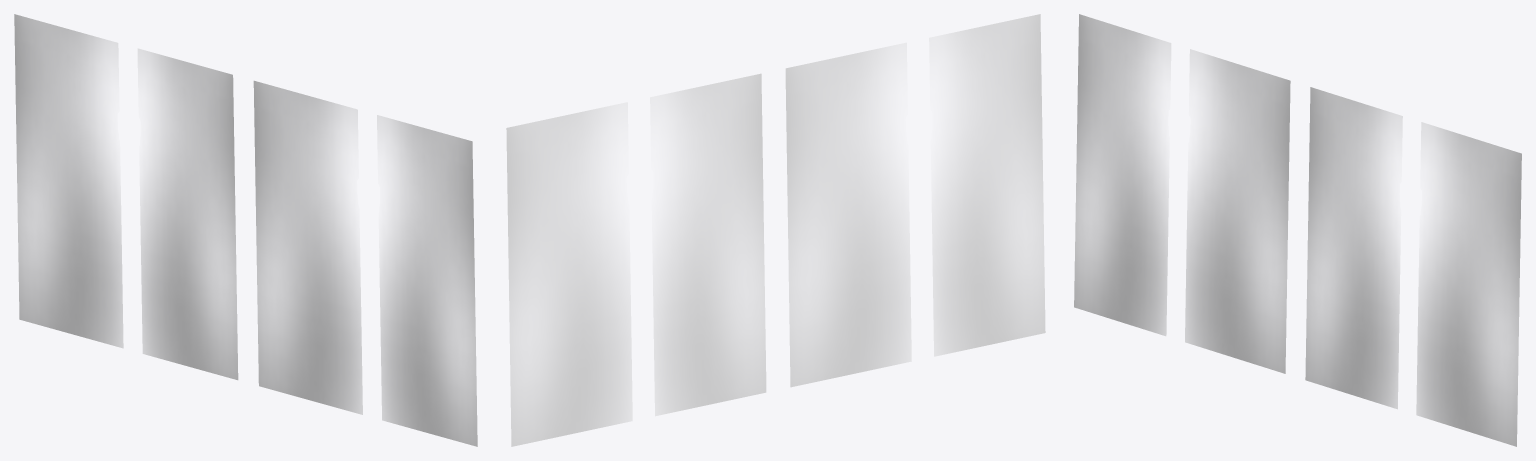
File: fridge1_fridgeglass_0_lev2.glb
The picture shows the model from 3 angles, left to right: view 1: azimuth 90°, elevation 25°; view 2: azimuth 150°, elevation 25°; view 3: azimuth 270°, elevation 25°; orthographic projection. The views are drawn at different scales.
Parts seen in each view (by area): view 1: fridge1_fridgeglass_0_lev2; view 2: fridge1_fridgeglass_0_lev2; view 3: fridge1_fridgeglass_0_lev2.
Boxes of the visible parts, bbox=[...] form: fridge1_fridgeglass_0_lev2: bbox=[14, 14, 477, 446]; fridge1_fridgeglass_0_lev2: bbox=[506, 14, 1045, 446]; fridge1_fridgeglass_0_lev2: bbox=[1074, 14, 1521, 446].
Bounding box in the file's own units: 6.27 × 6.68 × 8.96.
Materials: 1 (1 with a texture image).
